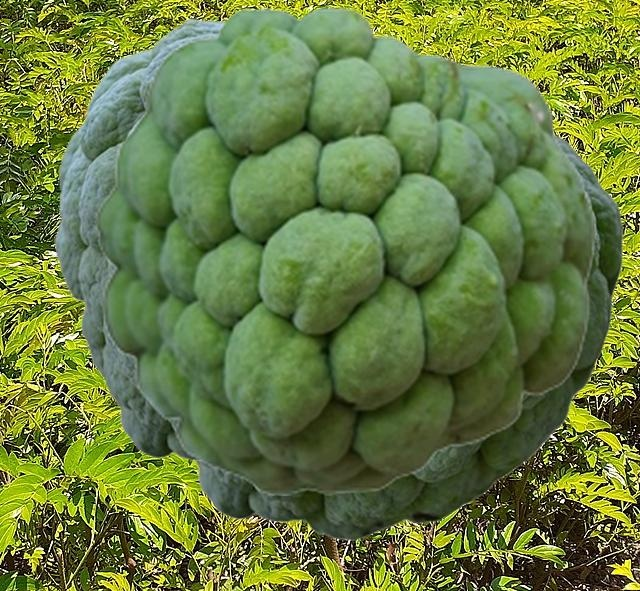atis: (93, 6, 595, 494), (192, 131, 623, 539), (54, 18, 223, 463)
